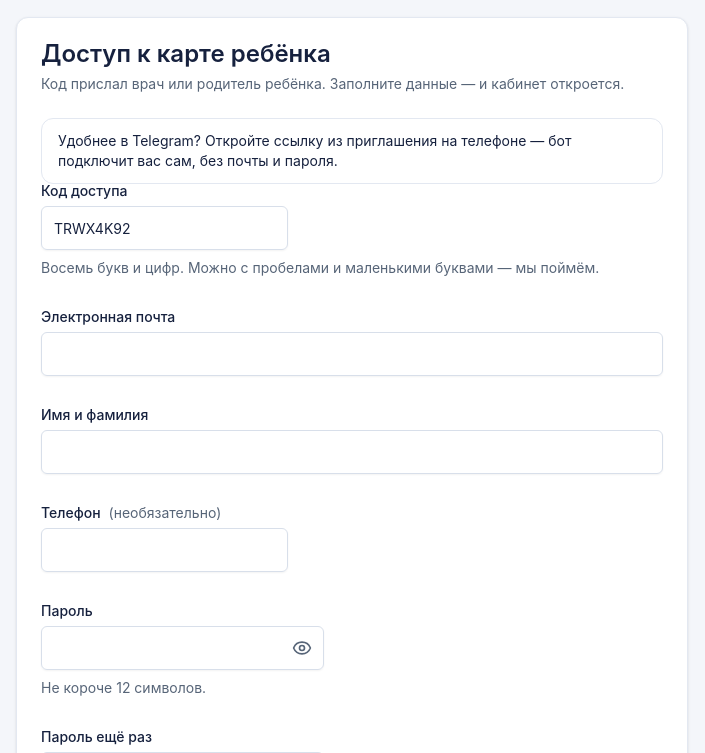
Test: активация кода доступа семьёй › заполненная форма заводит учётную запись и ведёт ко входу
Type "mama@example.com" into the field labelled "Электронная почта" at x=352, y=354, box [41,332,663,376]
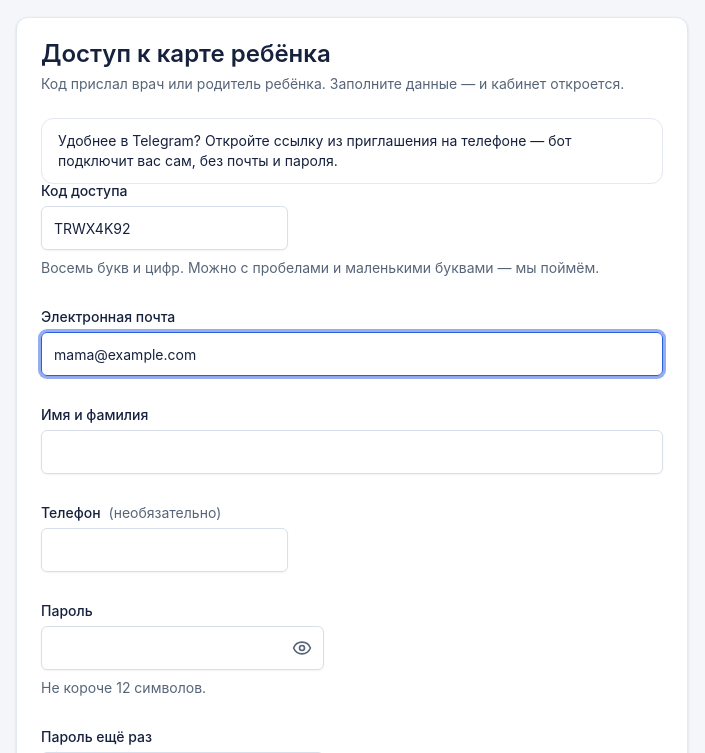
Type "Мама Ани" into the field labelled "Имя и фамилия" at x=352, y=452, box [41,430,663,474]
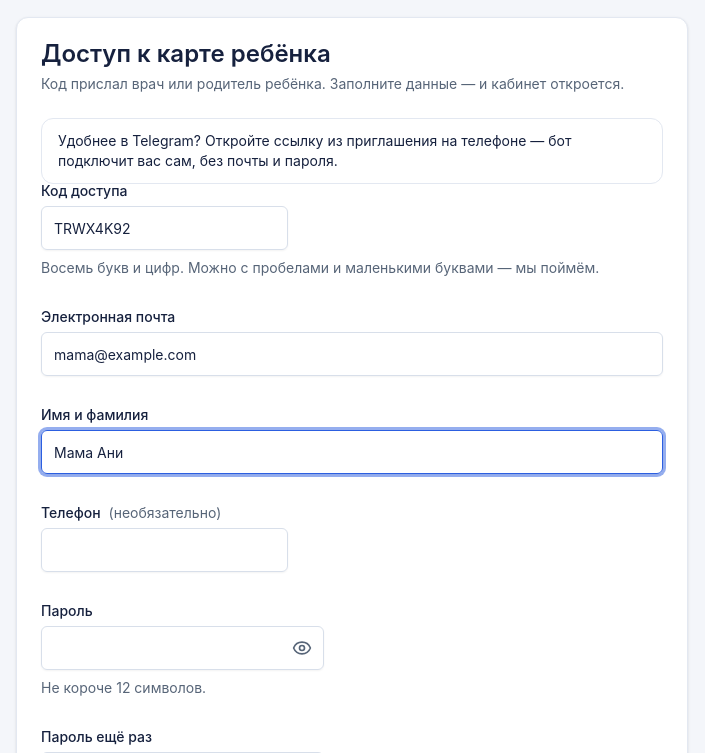
Type "совершенно новый пароль 42" into the password field labelled "Пароль" at x=182, y=648, box [41,626,324,670]
(page scrolled)
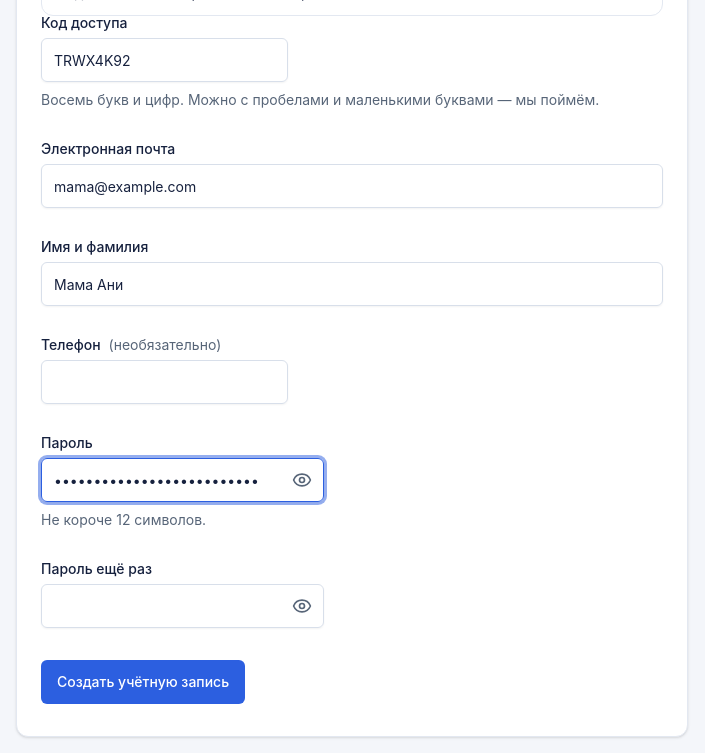
Type "совершенно новый пароль 42" into the password field labelled "Пароль ещё раз" at x=182, y=606, box [41,584,324,628]
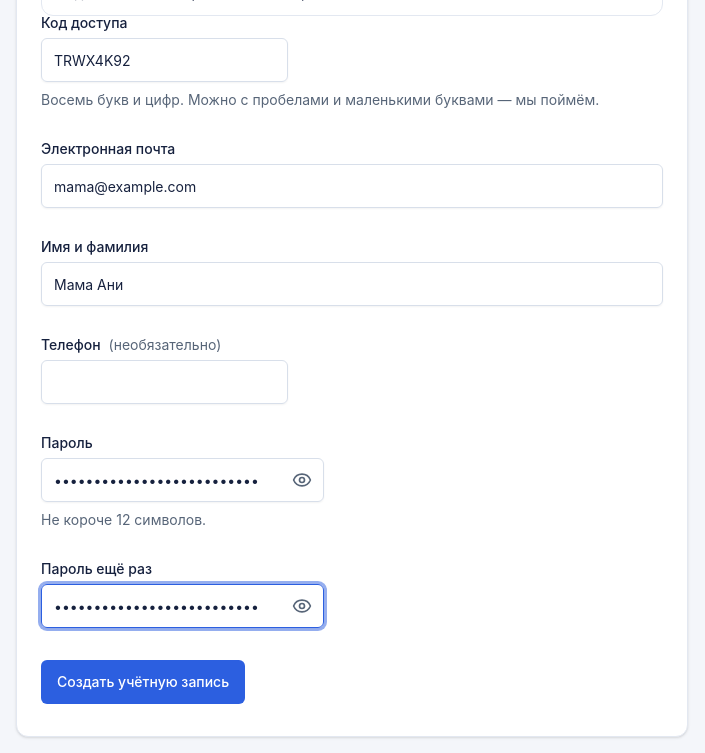
Click the button "Создать учётную запись" at x=143, y=682, box [41,660,245,704]
(page scrolled)
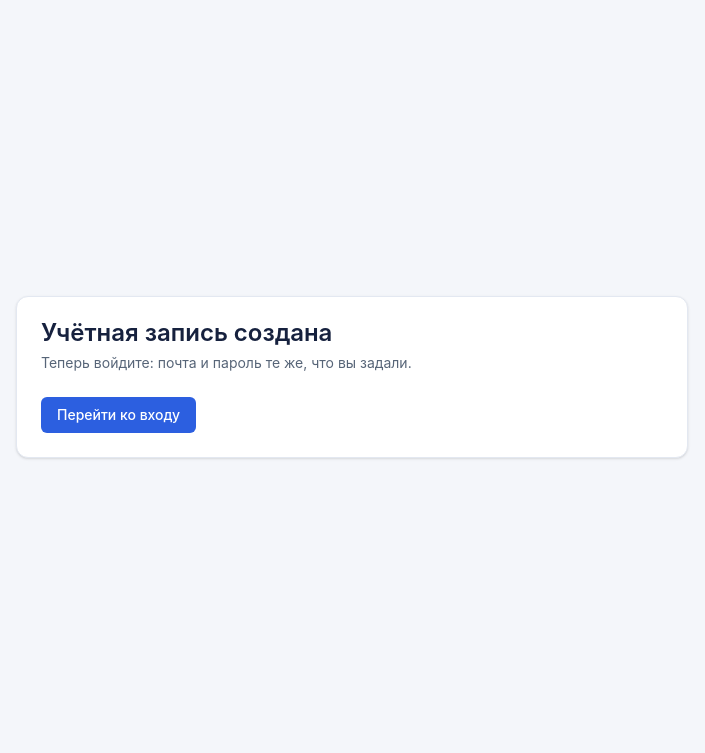
Expected: the button "Перейти ко входу" is shown, [41,397,196,433]
